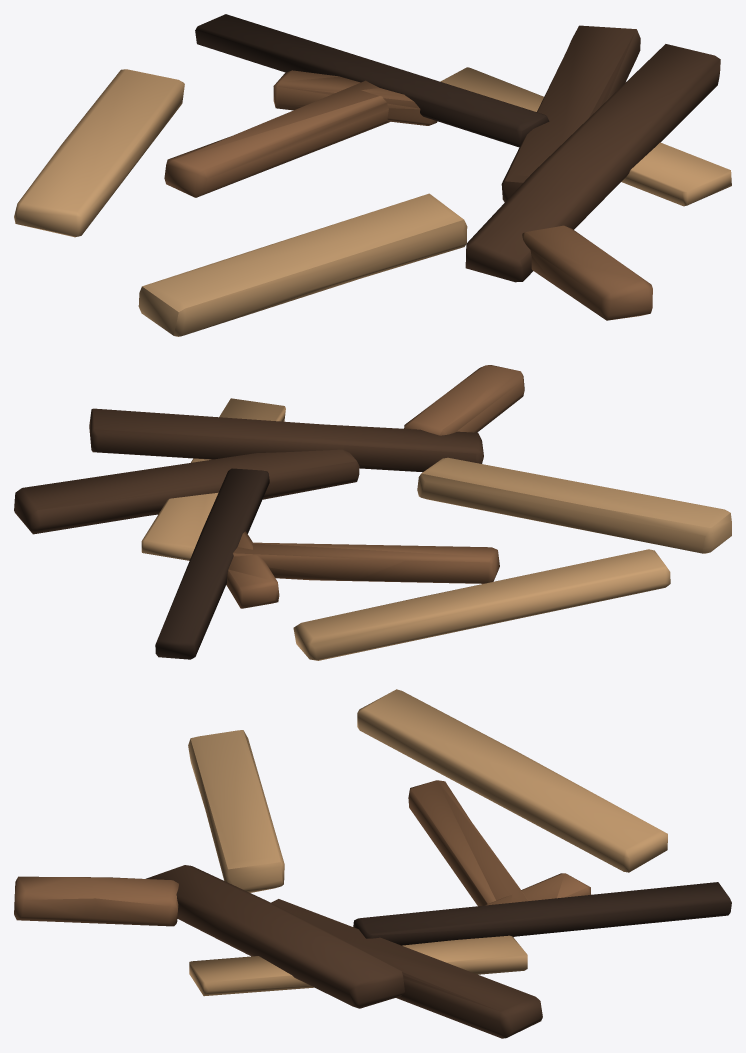
Rendered from ember_gc_wood_chips_b_lod1.glb.
3 views of the same model, one above another, from view 1: azimuth 30°, elevation 25°; view 2: azimuth 150°, elevation 25°; view 3: azimuth 270°, elevation 25° (orthographic). The views are drawn at different scales.
Visible parts, largest first — view 1: ember_gc_wood_chips_b.001; view 2: ember_gc_wood_chips_b.001; view 3: ember_gc_wood_chips_b.001.
Boxes of the visible parts, x1,y1,x2,y2 form: ember_gc_wood_chips_b.001: [14, 14, 731, 336]; ember_gc_wood_chips_b.001: [14, 365, 731, 660]; ember_gc_wood_chips_b.001: [14, 689, 731, 1038].
Bounding box in the file's own units: 4.84 × 0.4592 × 4.94.
